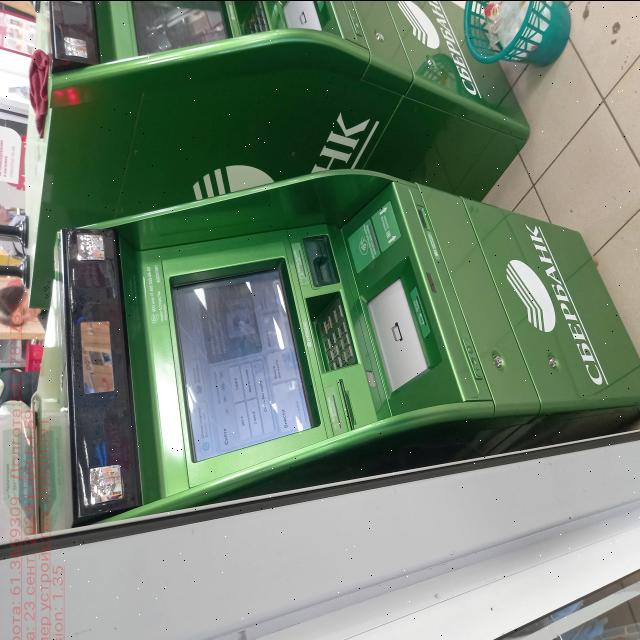bank: (30, 188, 640, 550), (28, 0, 529, 309)
